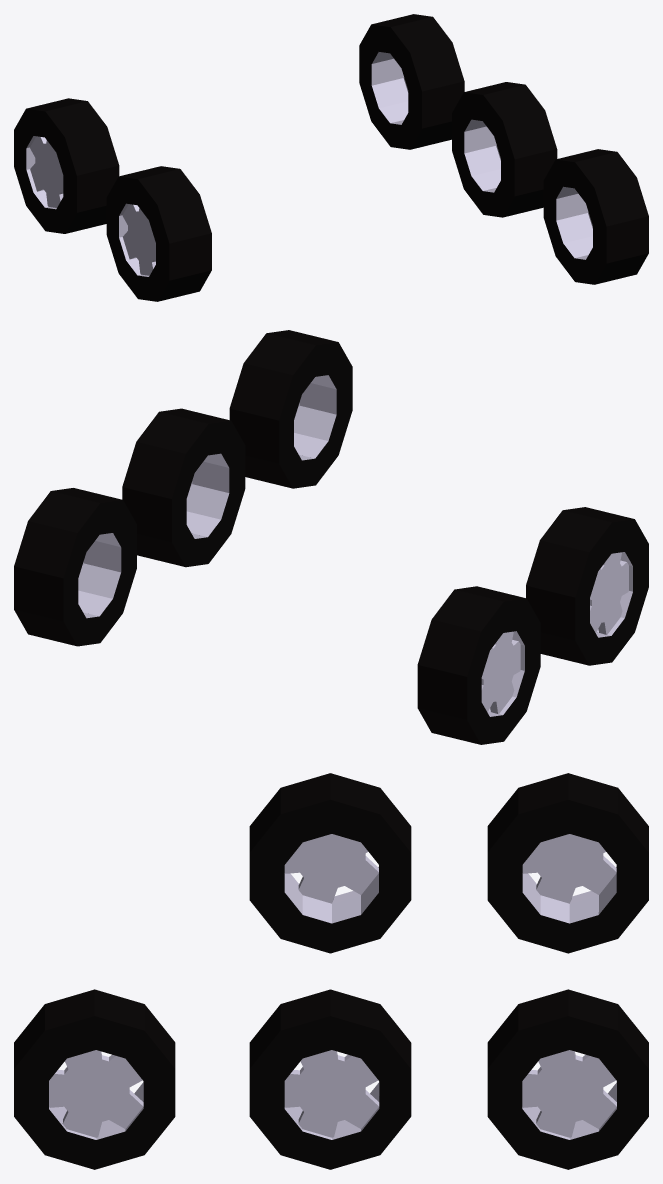
Rendered from Truck_with_trailer_wheel_rear_left_3.gltf.
3 views of the same model, one above another, from view 1: azimuth 30°, elevation 25°; view 2: azimuth 150°, elevation 25°; view 3: azimuth 270°, elevation 25° (orthographic). The views are drawn at different scales.
Parts seen in each view (by area): view 1: Truck_with_trailer_wheel_rear_right_4, Truck_with_trailer_wheel_rear_left_3, Truck_with_trailer_wheel_rear_right_5, Truck_with_trailer_wheel_rear_left_5, Truck_with_trailer_wheel_rear_left_4; view 2: Truck_with_trailer_wheel_rear_right_5, Truck_with_trailer_wheel_rear_left_5, Truck_with_trailer_wheel_rear_left_4, Truck_with_trailer_wheel_rear_right_4, Truck_with_trailer_wheel_rear_left_3; view 3: Truck_with_trailer_wheel_rear_left_4, Truck_with_trailer_wheel_rear_left_5, Truck_with_trailer_wheel_rear_left_3, Truck_with_trailer_wheel_rear_right_4, Truck_with_trailer_wheel_rear_right_5.
Boxes of the visible parts, left/top/right/bottom form: Truck_with_trailer_wheel_rear_right_4: left=106, top=166, right=211, bottom=301; Truck_with_trailer_wheel_rear_left_3: left=543, top=149, right=648, bottom=284; Truck_with_trailer_wheel_rear_right_5: left=14, top=98, right=119, bottom=233; Truck_with_trailer_wheel_rear_left_5: left=359, top=14, right=464, bottom=149; Truck_with_trailer_wheel_rear_left_4: left=452, top=82, right=557, bottom=217; Truck_with_trailer_wheel_rear_right_5: left=417, top=586, right=540, bottom=744; Truck_with_trailer_wheel_rear_left_5: left=14, top=488, right=136, bottom=646; Truck_with_trailer_wheel_rear_left_4: left=122, top=408, right=245, bottom=567; Truck_with_trailer_wheel_rear_right_4: left=526, top=507, right=648, bottom=665; Truck_with_trailer_wheel_rear_left_3: left=229, top=330, right=352, bottom=488; Truck_with_trailer_wheel_rear_left_4: left=249, top=989, right=411, bottom=1169; Truck_with_trailer_wheel_rear_left_5: left=487, top=989, right=648, bottom=1169; Truck_with_trailer_wheel_rear_left_3: left=14, top=989, right=175, bottom=1169; Truck_with_trailer_wheel_rear_right_4: left=249, top=773, right=411, bottom=953; Truck_with_trailer_wheel_rear_right_5: left=487, top=773, right=648, bottom=953.
Bounding box in the file's own units: 278 × 82.12 × 307.
